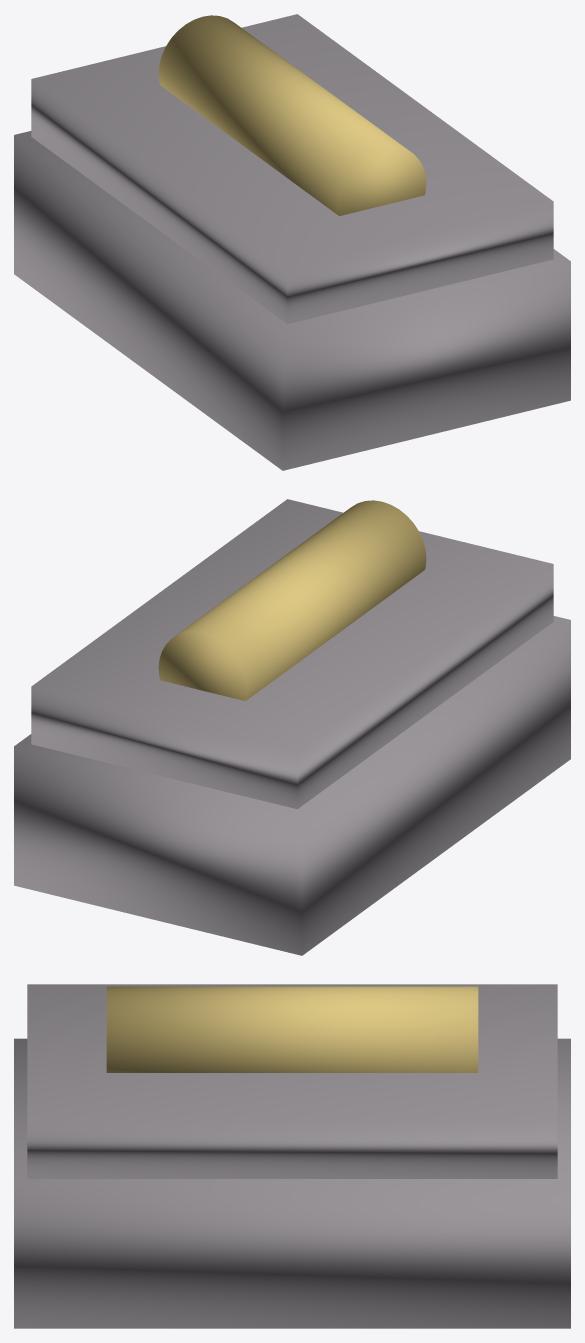
Rendered from prop_imperial_sarcophagus.glb.
The picture shows the model from 3 angles, top to bottom: view 1: azimuth 30°, elevation 25°; view 2: azimuth 150°, elevation 25°; view 3: azimuth 270°, elevation 25°; orthographic projection. The views are drawn at different scales.
Parts seen in each view (by area): view 1: Cube, Cube.001, Cylinder; view 2: Cube, Cube.001, Cylinder; view 3: Cube, Cube.001, Cylinder.
Part boxes in pixels (x1,y1,x2,y2): Cube: (14,131,570,470); Cube.001: (31,14,553,324); Cylinder: (158,15,426,215); Cube: (14,616,570,955); Cube.001: (31,499,553,809); Cylinder: (158,500,426,700); Cube: (14,1038,570,1328); Cube.001: (27,984,557,1178); Cylinder: (106,986,478,1072).
Size of the model in its own units: 2.6 by 2.2 by 4.2.
